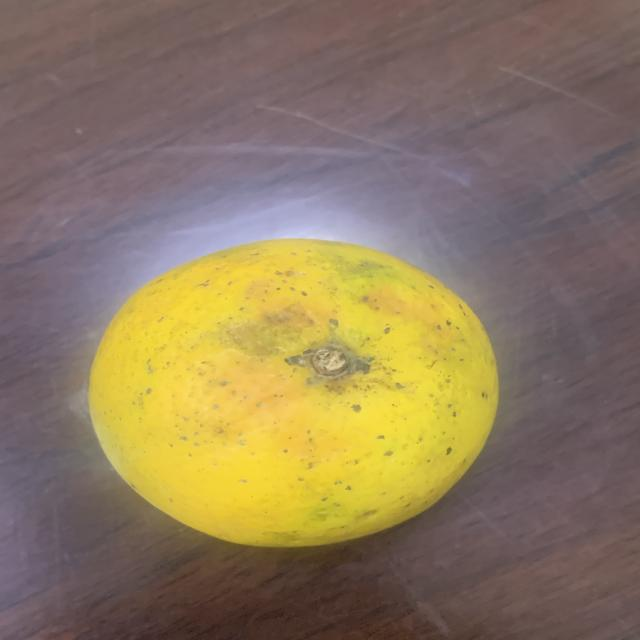Ripe orange: (82, 230, 506, 556)
